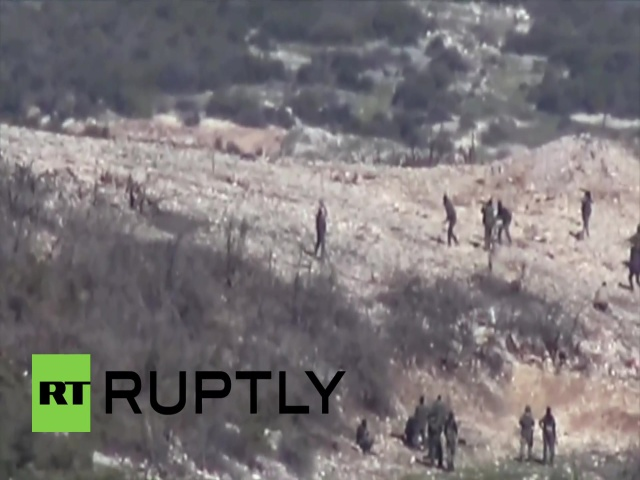person: (428, 392, 445, 463), (540, 404, 558, 464), (441, 194, 461, 247), (516, 402, 534, 460), (311, 203, 328, 260), (411, 393, 428, 448), (443, 409, 458, 471), (495, 197, 513, 244), (478, 199, 495, 245), (578, 190, 591, 238)
